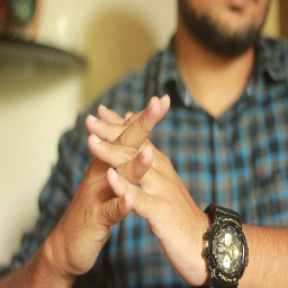W: (68, 83, 189, 253)
